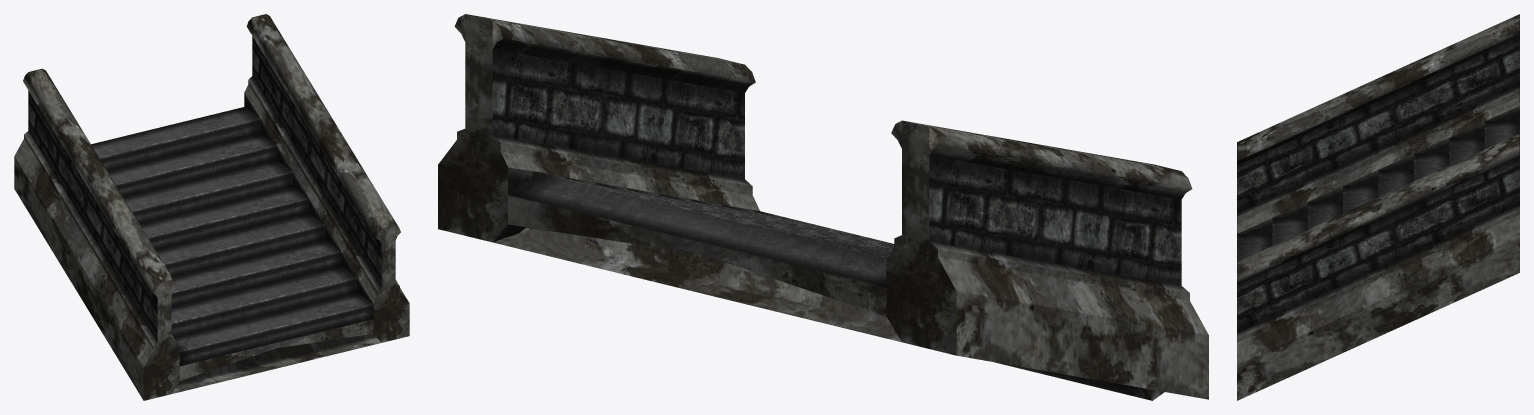
3 renders of one model, left to right at view 1: azimuth 30°, elevation 25°; view 2: azimuth 150°, elevation 25°; view 3: azimuth 270°, elevation 25°, orthographic. The views are drawn at different scales.
Parts seen in each view (by area): view 1: polySurface3; view 2: polySurface3; view 3: polySurface3.
Boxes of the visible parts, x1,y1,x2,y2 form: polySurface3: (14, 14, 409, 400); polySurface3: (438, 14, 1208, 400); polySurface3: (1237, 14, 1519, 400).
Size of what is drawn, in the model's own units: 4.75 by 3.94 by 4.
